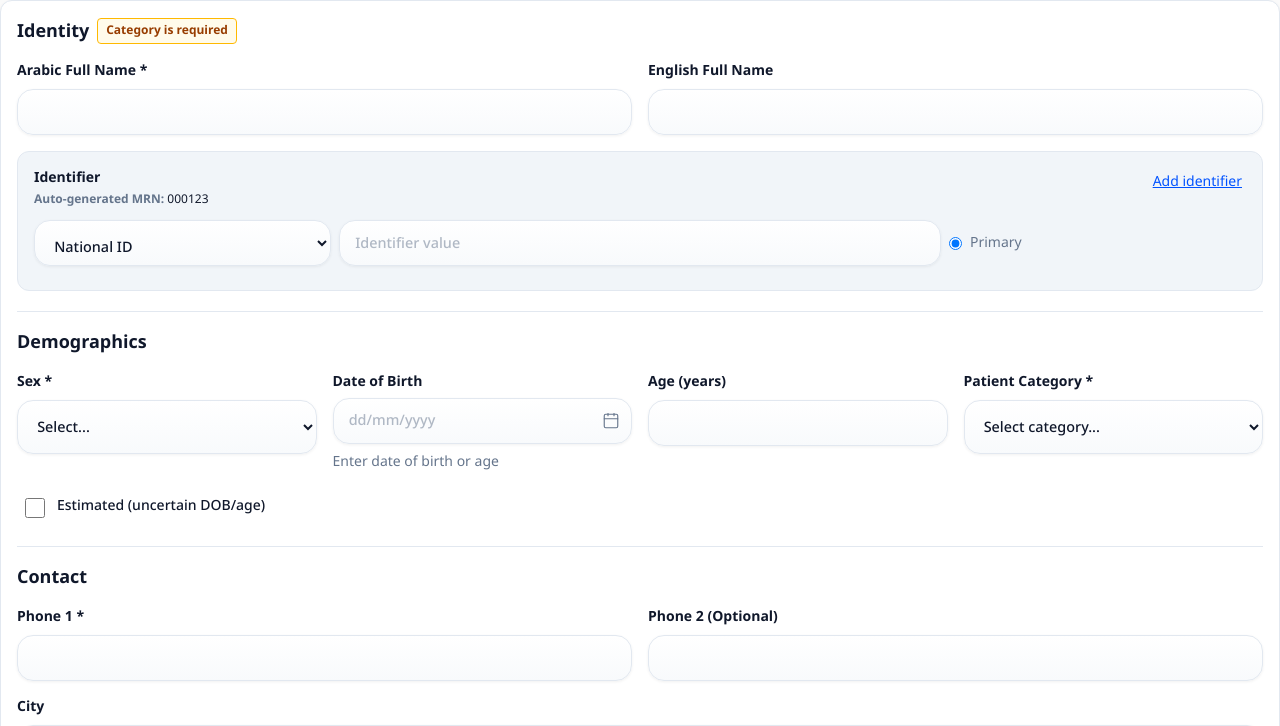
Test: PatientForm workflow hardening › hides the large possible matches panel until candidates exist
The width and height of the screenshot is (1280, 726).
In the field named "Phone 1": (324, 658) [17,635,632,681], type "09"
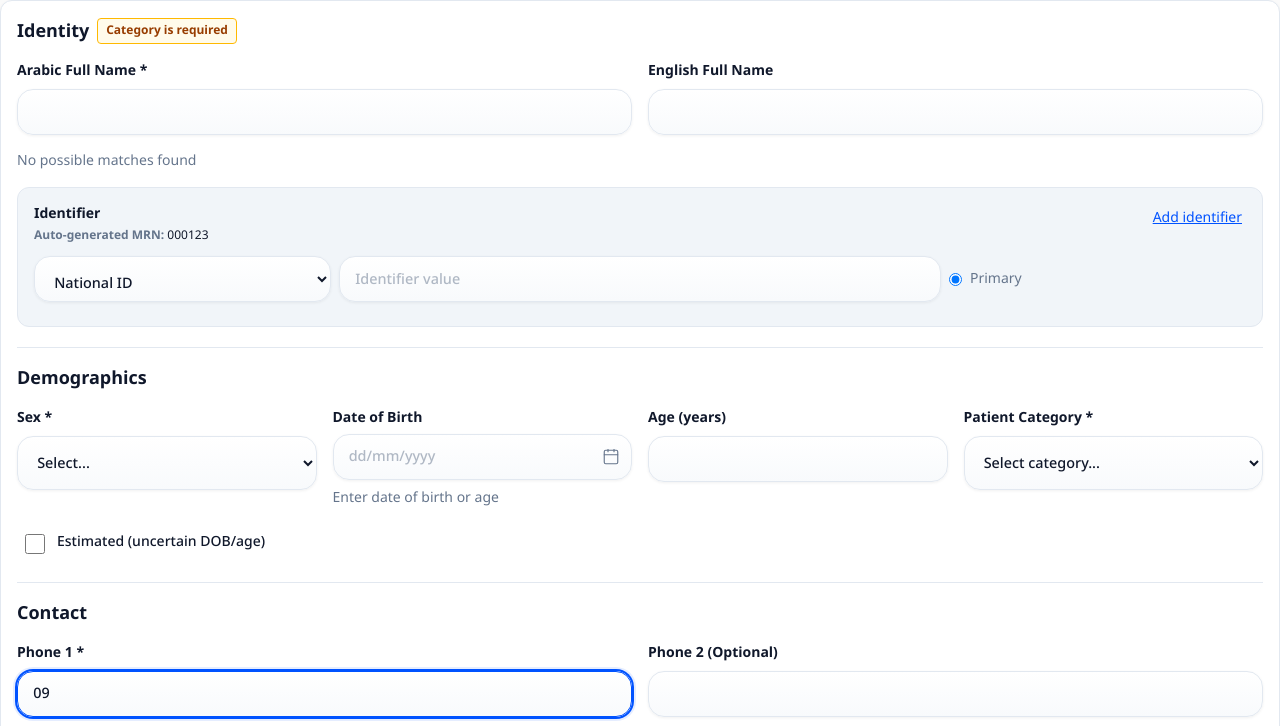
Expected: the text "No possible matches found" is shown, [17,146,196,175]
